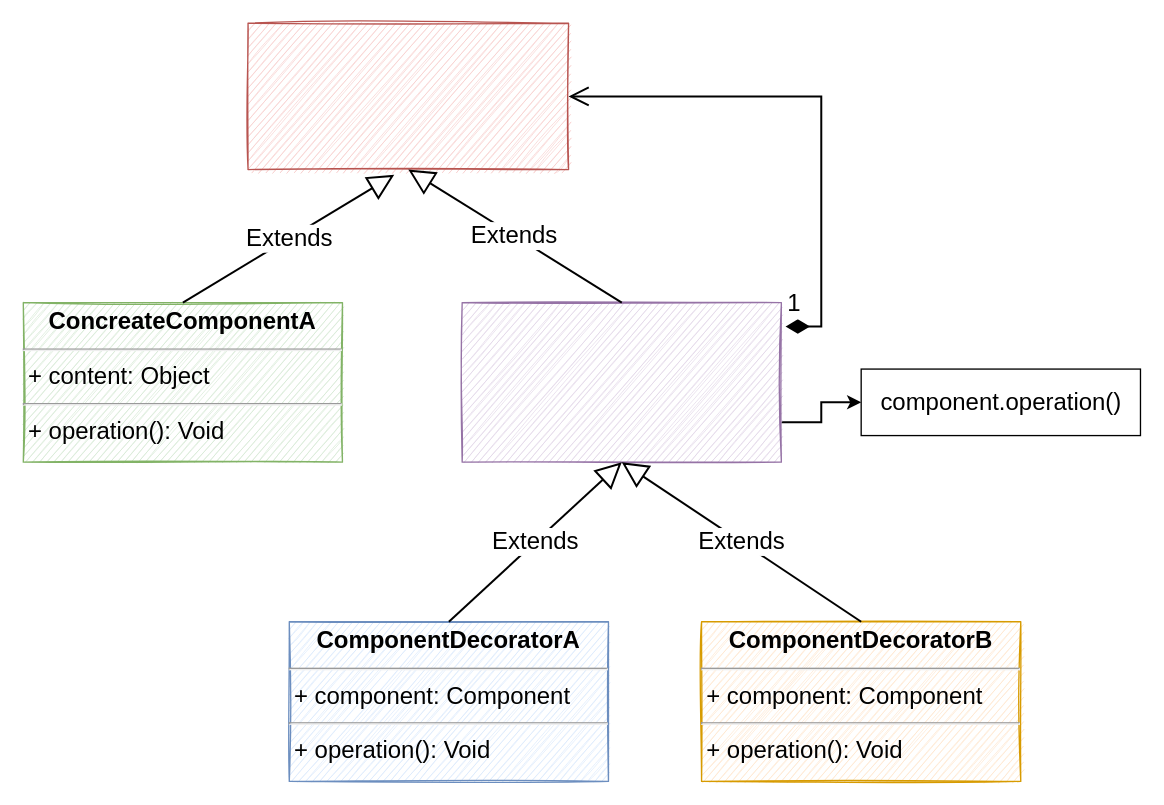
The diagram is 1164 pixels wide and 805 high, and some of its shapes have lost their labels. The centre of each missing label's shape, as x and y in pixels:
"Component + content: Object + operation(): Void" belongs at point 408,96.
"ComponentDecorator + component: Component + operation(): Void" belongs at point 621,381.
